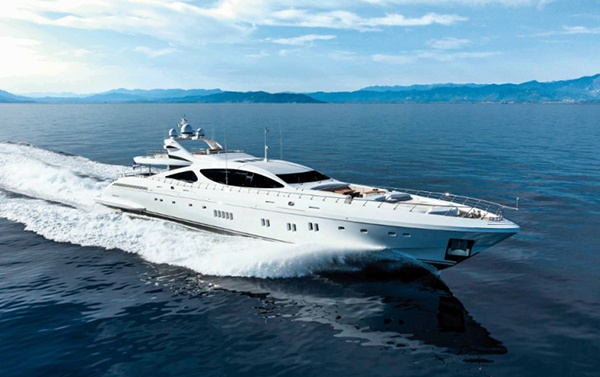yacht: (88, 114, 524, 277)
